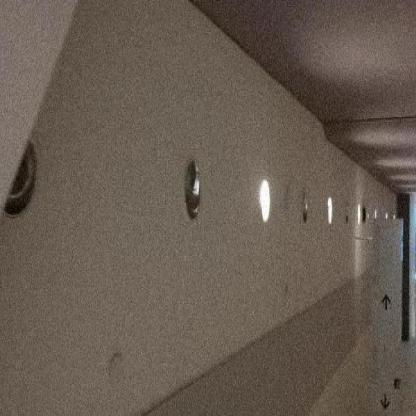light_off: (0, 113, 44, 236), (168, 135, 212, 237), (298, 165, 312, 243), (339, 185, 353, 249), (361, 189, 369, 242)
